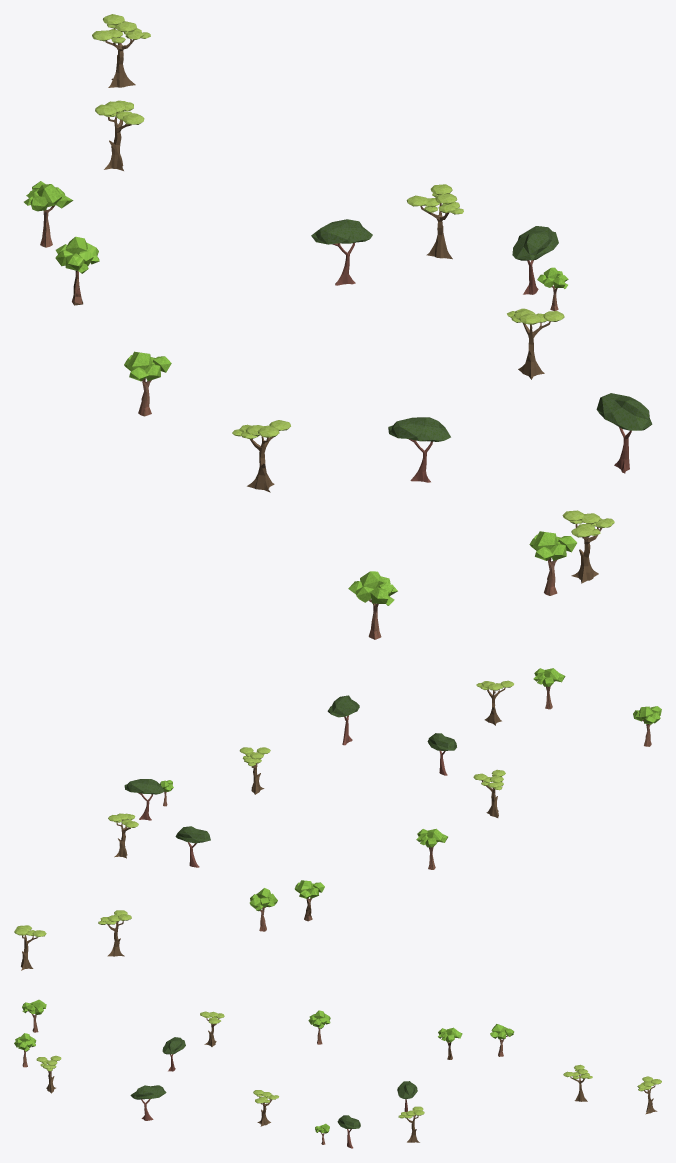
The model's file is Tree_Green.fbx.
The picture shows the model from 3 angles, top to bottom: view 1: azimuth 30°, elevation 25°; view 2: azimuth 150°, elevation 25°; view 3: azimuth 270°, elevation 25°; orthographic projection. The views are drawn at different scales.
Parts seen in each view (by area): view 1: Tree_C.001, Tree_C.003, Tree_B.002, Tree_B, Tree_C, Tree_C.004, Tree_B.005, Tree_A.005, Tree_A, Tree_A.001, Tree_A.002, Tree_B.004 (+3 smaller); view 2: Tree_C.001, Tree_C.004, Tree_B.004, Tree_C, Tree_B.003, Tree_B.001, Tree_A.003, Tree_A, Tree_B.005, Tree_A.005, Tree_A.002, Tree_A.001 (+3 smaller); view 3: Tree_C.001, Tree_B.001, Tree_B.003, Tree_C.003, Tree_B, Tree_B.002, Tree_B.005, Tree_A.005, Tree_A.001, Tree_A.002, Tree_B.004, Tree_A.003 (+3 smaller).
Part boxes in pixels (bbox=[...]): Tree_C.001: bbox=[596, 393, 652, 473]; Tree_C.003: bbox=[388, 417, 450, 482]; Tree_B.002: bbox=[406, 184, 463, 259]; Tree_B: bbox=[92, 14, 150, 87]; Tree_C: bbox=[311, 219, 372, 285]; Tree_C.004: bbox=[512, 226, 558, 294]; Tree_B.005: bbox=[562, 510, 614, 583]; Tree_A.005: bbox=[348, 571, 397, 639]; Tree_A: bbox=[55, 236, 99, 305]; Tree_A.001: bbox=[124, 351, 171, 416]; Tree_A.002: bbox=[529, 531, 576, 595]; Tree_B.004: bbox=[232, 420, 290, 492]; Tree_C.001: bbox=[327, 695, 359, 745]; Tree_C.004: bbox=[124, 779, 164, 820]; Tree_B.004: bbox=[473, 769, 505, 817]; Tree_C: bbox=[175, 826, 210, 867]; Tree_B.003: bbox=[239, 747, 270, 794]; Tree_B.001: bbox=[98, 910, 131, 956]; Tree_A.003: bbox=[249, 888, 277, 931]; Tree_A: bbox=[294, 880, 324, 921]; Tree_B.005: bbox=[476, 680, 513, 725]; Tree_A.005: bbox=[633, 706, 661, 746]; Tree_A.002: bbox=[533, 668, 565, 709]; Tree_A.001: bbox=[416, 828, 447, 869]; Tree_C.001: bbox=[130, 1085, 166, 1120]; Tree_B.001: bbox=[563, 1064, 592, 1101]; Tree_B.003: bbox=[253, 1090, 278, 1126]; Tree_C.003: bbox=[162, 1037, 185, 1071]; Tree_B: bbox=[637, 1076, 661, 1114]; Tree_B.002: bbox=[398, 1106, 424, 1142]; Tree_B.005: bbox=[36, 1055, 61, 1093]; Tree_A.005: bbox=[22, 999, 46, 1032]; Tree_A.001: bbox=[308, 1010, 330, 1044]; Tree_A.002: bbox=[14, 1033, 36, 1067]; Tree_B.004: bbox=[200, 1011, 224, 1046]; Tree_A.003: bbox=[490, 1024, 514, 1056].
Bounding box in the file's own units: 5784 × 945 × 12501.
6 materials, 6 textured.
